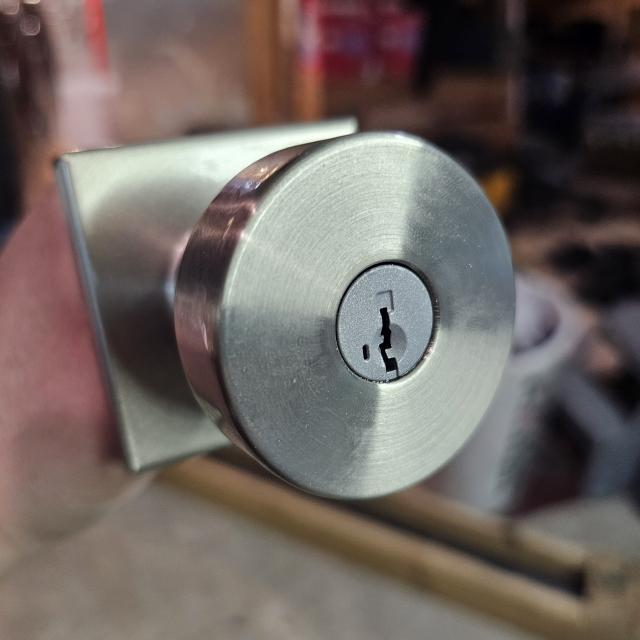door-knob: (56, 119, 515, 499)
